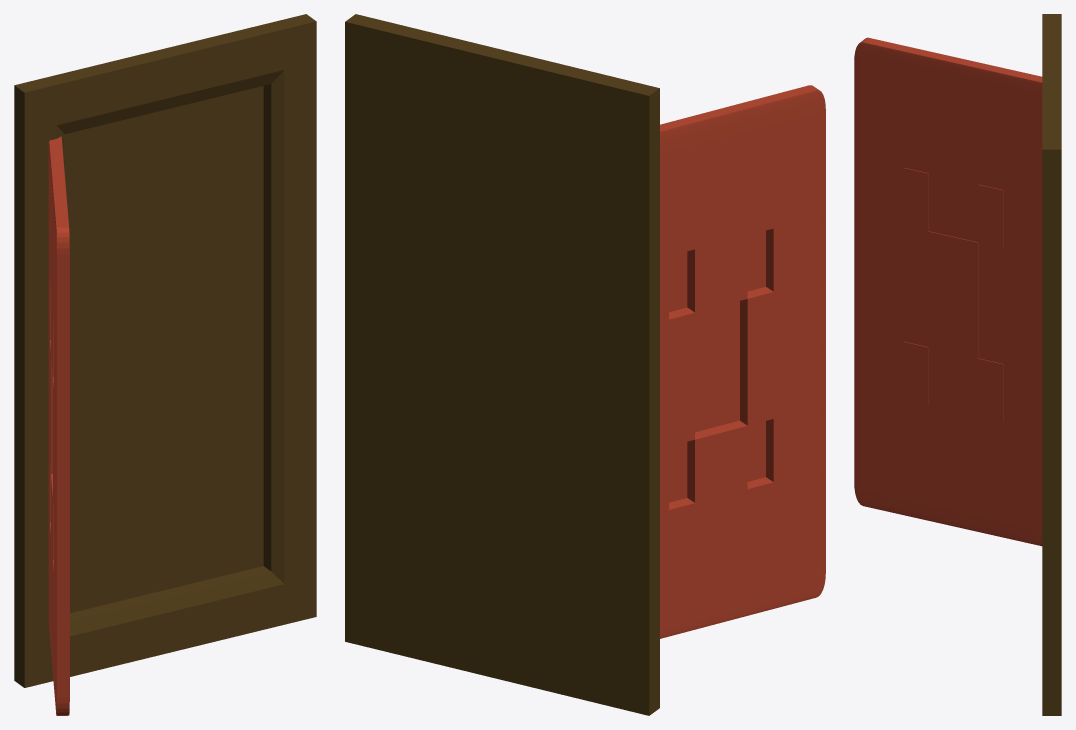
Rendered from door.fbx.
3 views of the same model, side by side, from view 1: azimuth 30°, elevation 25°; view 2: azimuth 150°, elevation 25°; view 3: azimuth 270°, elevation 25° (orthographic). The views are drawn at different scales.
Visible parts, largest first — view 1: frame, door; view 2: frame, door; view 3: door, frame.
Boxes of the visible parts, <box> form: frame: <box>14,14,316,687</box>; door: <box>48,136,69,715</box>; frame: <box>345,14,659,715</box>; door: <box>660,85,825,638</box>; door: <box>854,37,1042,546</box>; frame: <box>1042,14,1061,715</box>.
Bounding box in the file's own units: 1176 × 1881 × 624.
